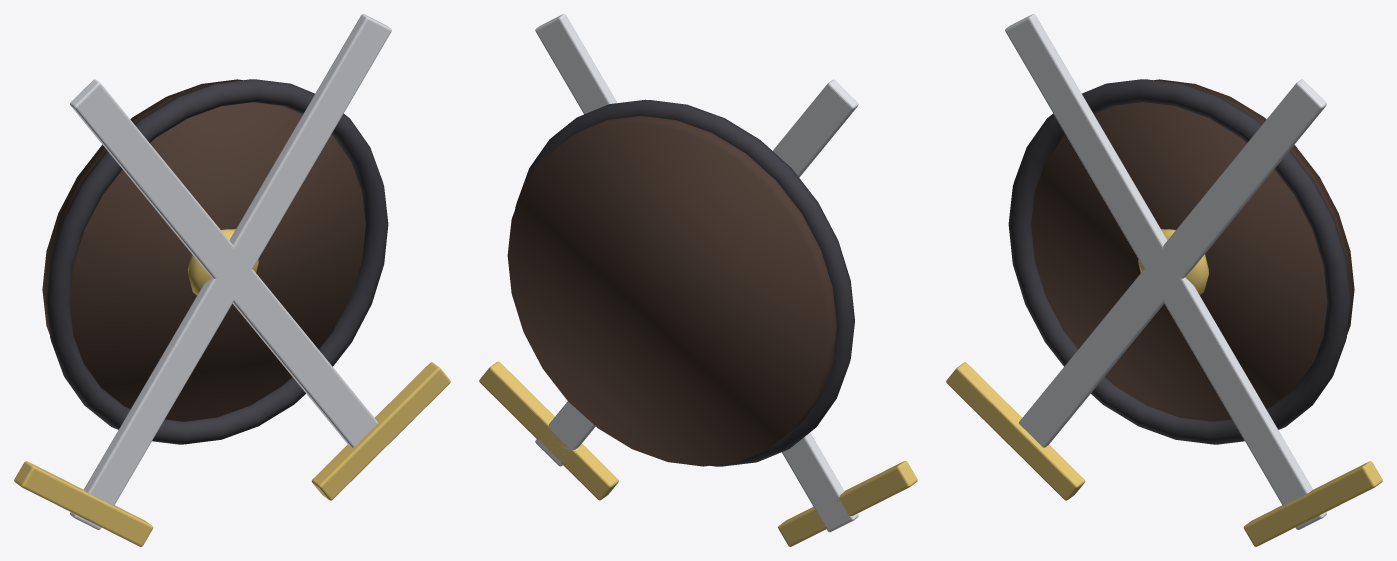
Rendered from wall_gear_swords_crossed.glb.
3 renders of one model, left to right at view 1: azimuth 30°, elevation 25°; view 2: azimuth 150°, elevation 25°; view 3: azimuth 330°, elevation 25°, orthographic.
Parts seen in each view (by area): view 1: GD_wall_gear_swords_crossed__m0, GD_wall_gear_swords_crossed__m3, GD_wall_gear_swords_crossed__m1, GD_wall_gear_swords_crossed__m2; view 2: GD_wall_gear_swords_crossed__m0, GD_wall_gear_swords_crossed__m3, GD_wall_gear_swords_crossed__m1, GD_wall_gear_swords_crossed__m2; view 3: GD_wall_gear_swords_crossed__m0, GD_wall_gear_swords_crossed__m3, GD_wall_gear_swords_crossed__m1, GD_wall_gear_swords_crossed__m2.
Part boxes in pixels (x1=…): GD_wall_gear_swords_crossed__m0: x1=42, y1=79, x2=365, y2=421; GD_wall_gear_swords_crossed__m3: x1=70, y1=14, x2=391, y2=529; GD_wall_gear_swords_crossed__m1: x1=46, y1=79, x2=388, y2=444; GD_wall_gear_swords_crossed__m2: x1=14, y1=229, x2=450, y2=546; GD_wall_gear_swords_crossed__m0: x1=507, y1=115, x2=836, y2=466; GD_wall_gear_swords_crossed__m3: x1=535, y1=14, x2=858, y2=532; GD_wall_gear_swords_crossed__m1: x1=515, y1=99, x2=854, y2=466; GD_wall_gear_swords_crossed__m2: x1=479, y1=361, x2=917, y2=546; GD_wall_gear_swords_crossed__m0: x1=1031, y1=79, x2=1354, y2=421; GD_wall_gear_swords_crossed__m3: x1=1005, y1=14, x2=1326, y2=529; GD_wall_gear_swords_crossed__m1: x1=1008, y1=79, x2=1350, y2=444; GD_wall_gear_swords_crossed__m2: x1=946, y1=229, x2=1382, y2=546.
Size of the model in its own units: 0.8079 by 0.8484 by 0.115.
